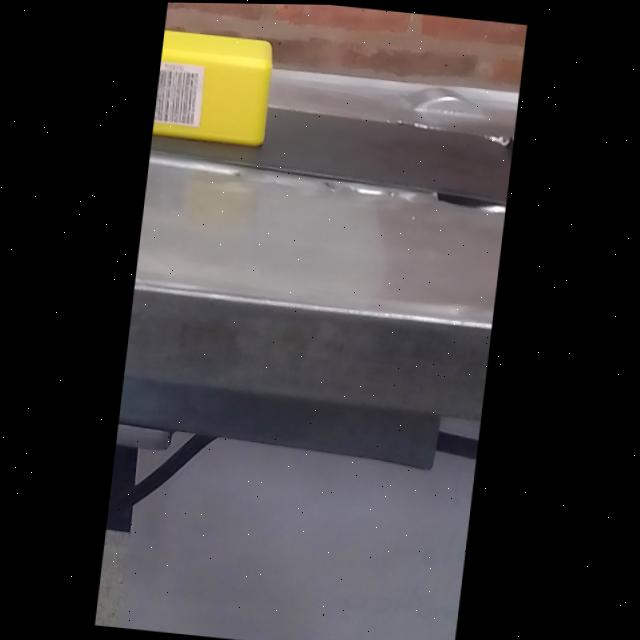yellowBox: (151, 24, 284, 158)
